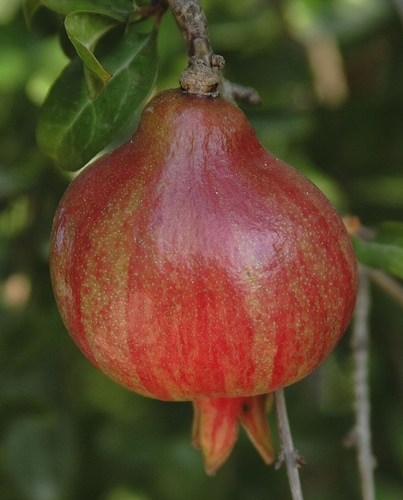pomogranate: (53, 90, 360, 472)
